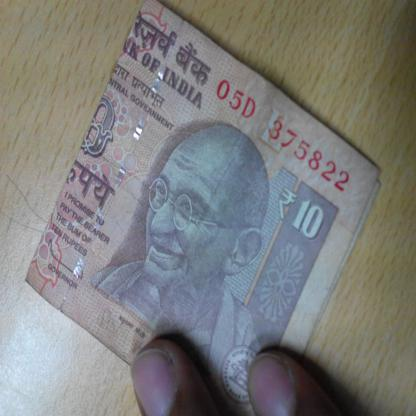Old10Front: (25, 0, 382, 416)
